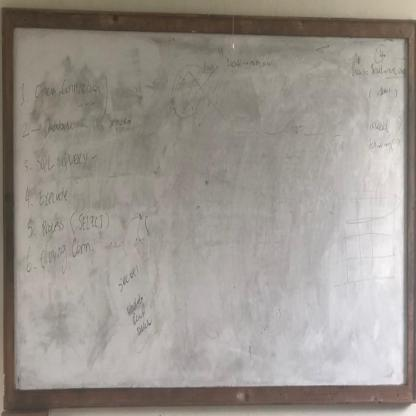Handwritten text: (34, 73, 106, 109), (32, 142, 95, 178), (39, 237, 91, 271), (41, 211, 105, 235), (40, 116, 87, 142), (32, 184, 74, 208)
Whiteboard: (10, 18, 408, 393)
